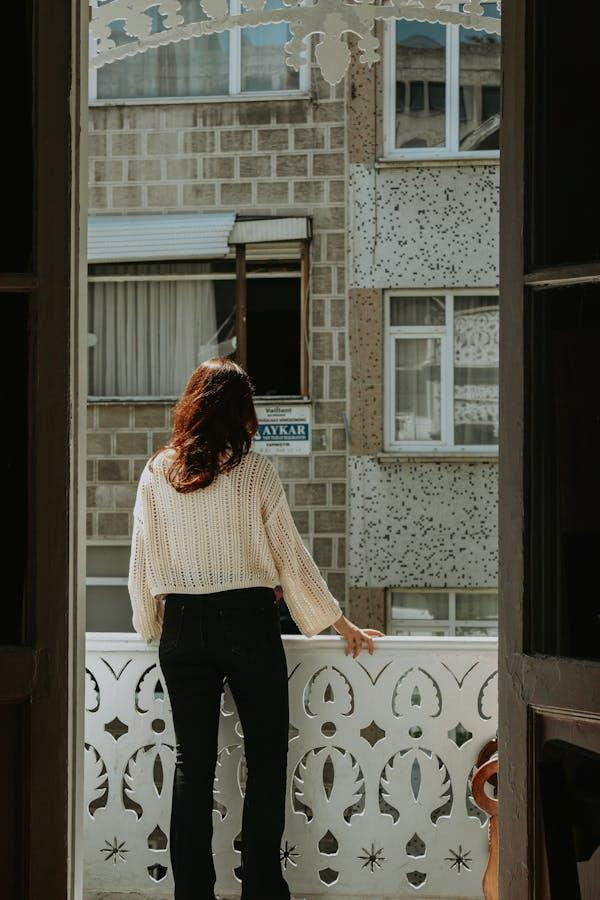Human: (110, 355, 382, 900)
